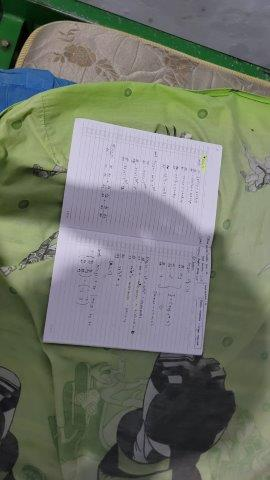kertas: (42, 119, 223, 358)
